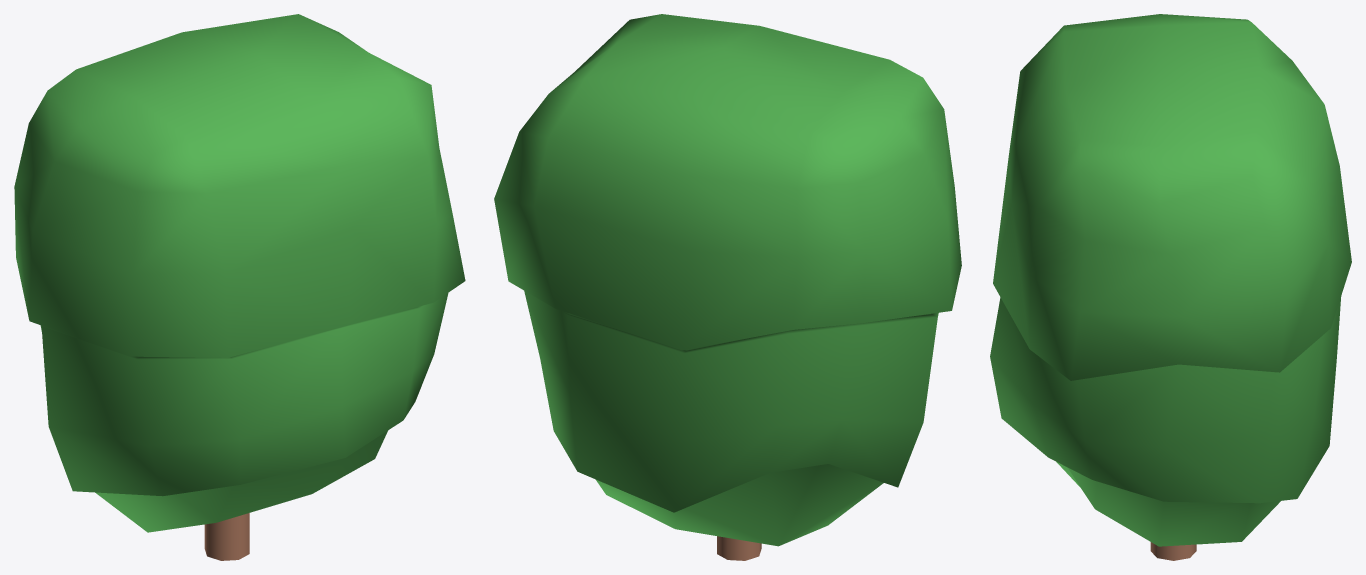
Rendered from BushB2.fbx.
3 renders of one model, left to right at view 1: azimuth 30°, elevation 25°; view 2: azimuth 150°, elevation 25°; view 3: azimuth 270°, elevation 25°, orthographic.
Parts seen in each view (by area): view 1: Bush_B2; view 2: Bush_B2; view 3: Bush_B2.
Part boxes in pixels (x1,y1,x2,y2): Bush_B2: (14, 14, 465, 560); Bush_B2: (494, 14, 961, 560); Bush_B2: (990, 14, 1351, 560).
Size of the model in its own units: 62.33 by 72.44 by 48.47.
